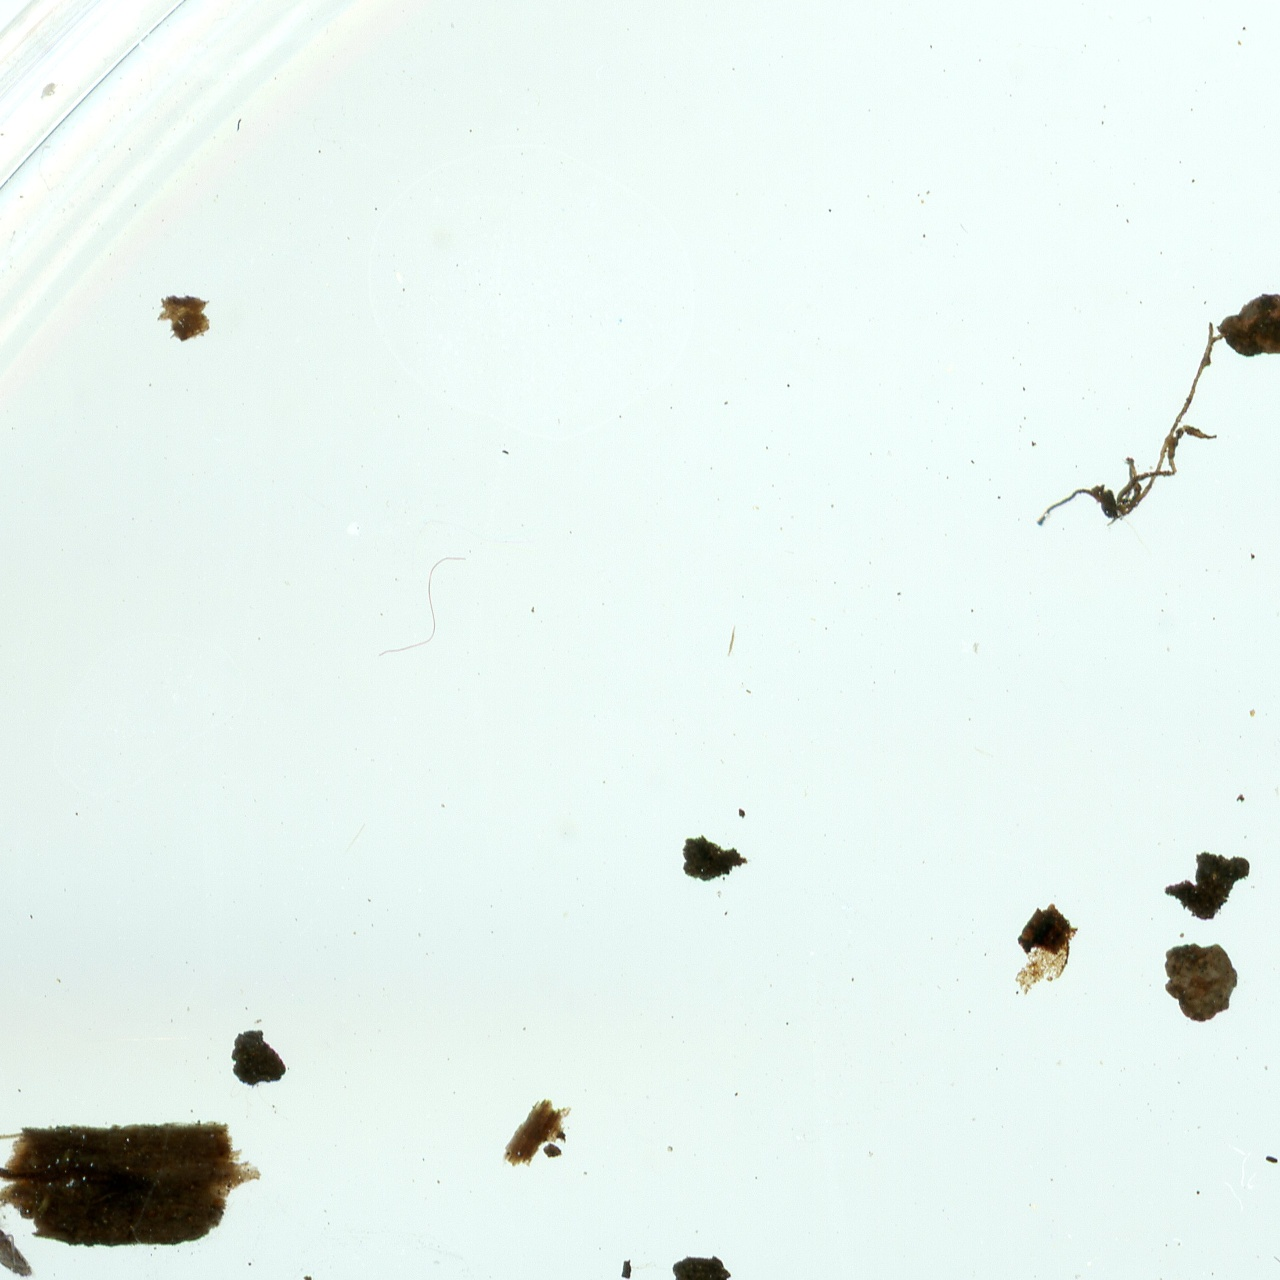arthropod: (0, 1211, 39, 1280)
